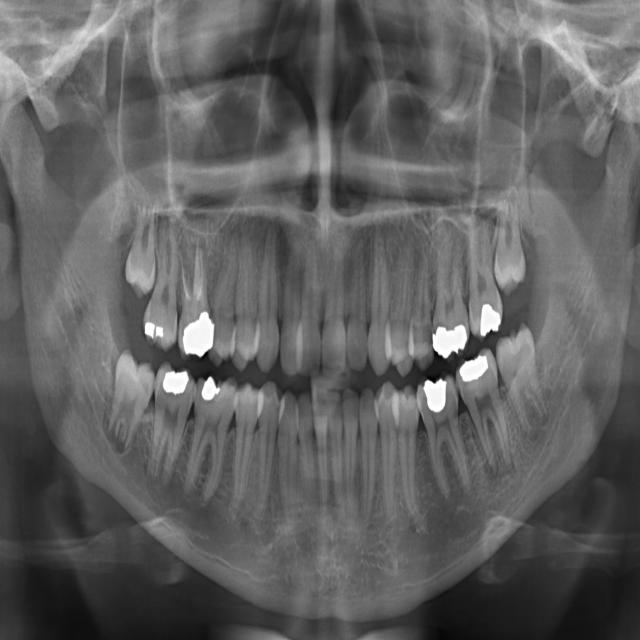AmalgamRestoration: (183, 314, 215, 356), (436, 320, 466, 360), (458, 350, 489, 388), (161, 366, 190, 396), (422, 379, 448, 412), (478, 304, 502, 338), (144, 321, 168, 342), (202, 376, 218, 403)
DentalCaries: (420, 326, 434, 355), (432, 310, 444, 334)
ImpactedTooth: (497, 198, 526, 292)
RootCanalTreatment: (178, 243, 205, 308)
